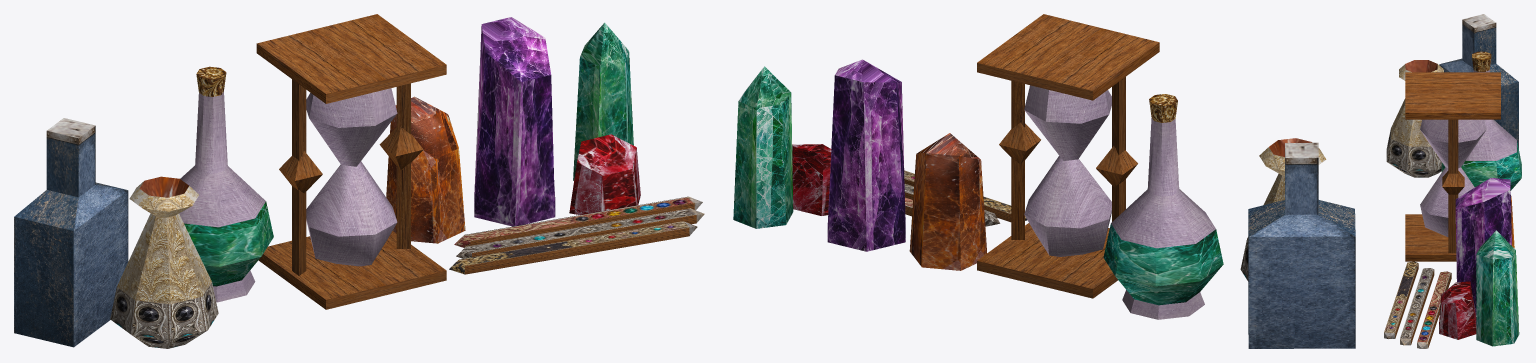
File: mm9_deco_shelfitem03.glb
3 renders of one model, left to right at view 1: azimuth 30°, elevation 25°; view 2: azimuth 150°, elevation 25°; view 3: azimuth 270°, elevation 25°, orthographic. The views are drawn at different scales.
Parts seen in each view (by area): view 1: Shelfitem03; view 2: Shelfitem03; view 3: Shelfitem03.
Boxes of the visible parts, x1,y1,x2,y2 form: Shelfitem03: (14, 14, 704, 348); Shelfitem03: (733, 14, 1355, 348); Shelfitem03: (1384, 14, 1521, 348).
Size of the model in its own units: 1.14 by 0.364 by 0.3053.
2 materials, 2 textured.
